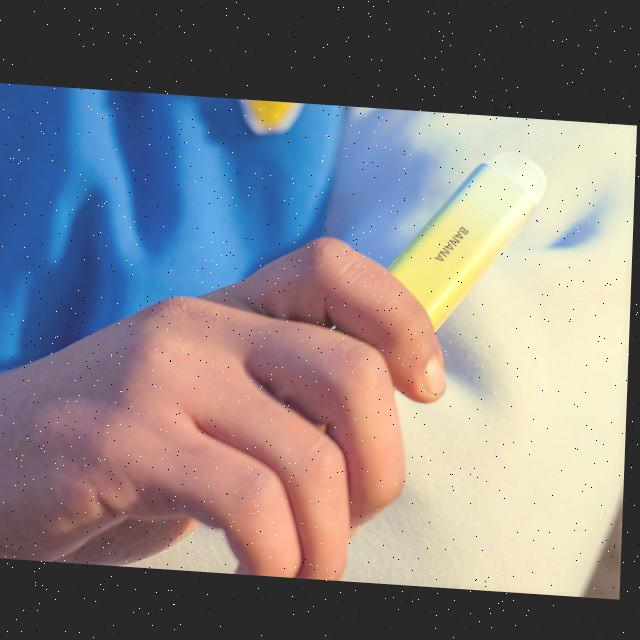vape: (385, 134, 553, 332)
